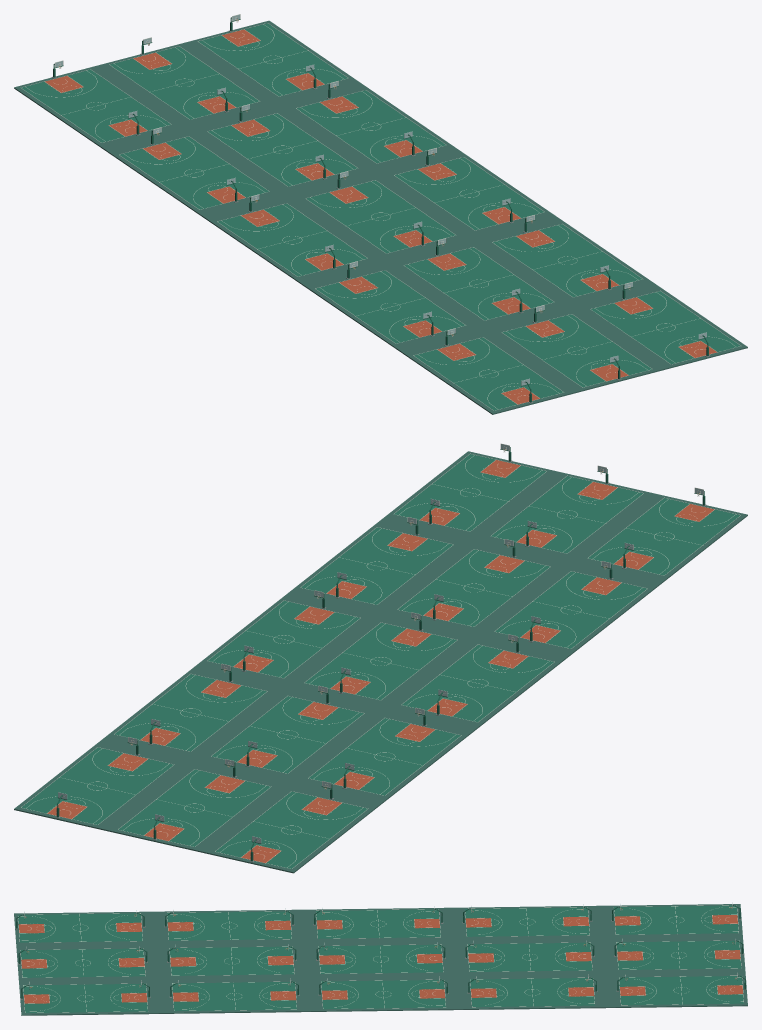
File: basketball-bank-east.glb
3 renders of one model, top to bottom at view 1: azimuth 30°, elevation 25°; view 2: azimuth 150°, elevation 25°; view 3: azimuth 270°, elevation 25°, orthographic. The views are drawn at different scales.
Parts seen in each view (by area): view 1: basketball-bank-east; view 2: basketball-bank-east; view 3: basketball-bank-east.
Part boxes in pixels (x1,y1,x2,y2): basketball-bank-east: (14,14,747,414); basketball-bank-east: (14,443,747,873); basketball-bank-east: (14,902,747,1015).
Size of the model in its own units: 59.92 by 4.19 by 167.
